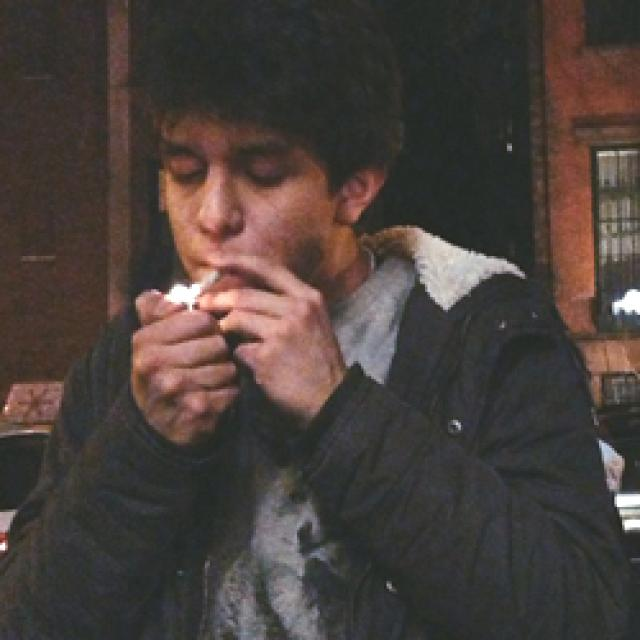Smooking: (172, 268, 228, 302)
